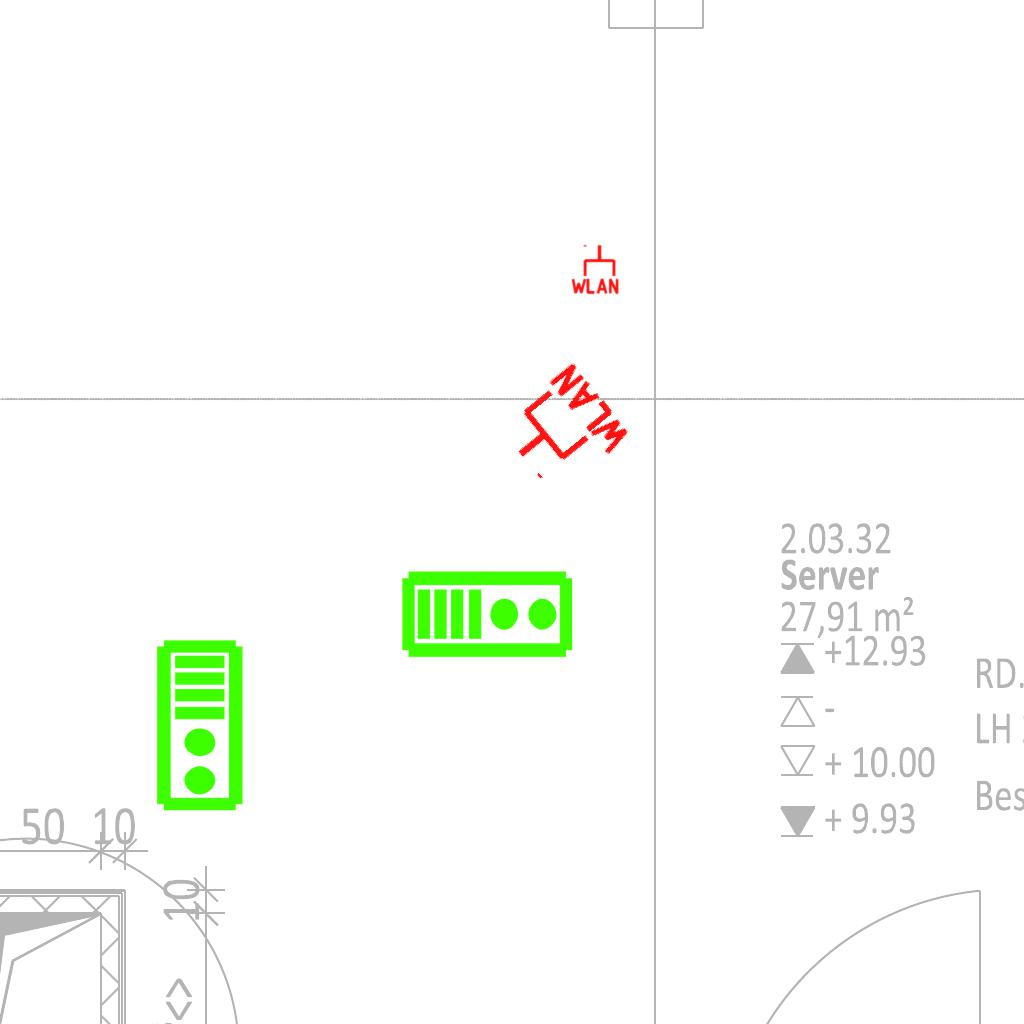Gegensprechanlage_mit_Video: (400, 565, 576, 660), (154, 638, 249, 814)
WLAN: (489, 357, 638, 505), (569, 243, 621, 295)
